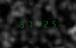five: (50, 19, 57, 27)
nine: (18, 20, 25, 28)
seven: (26, 20, 33, 28), (34, 20, 41, 27)
two: (42, 19, 49, 27)
